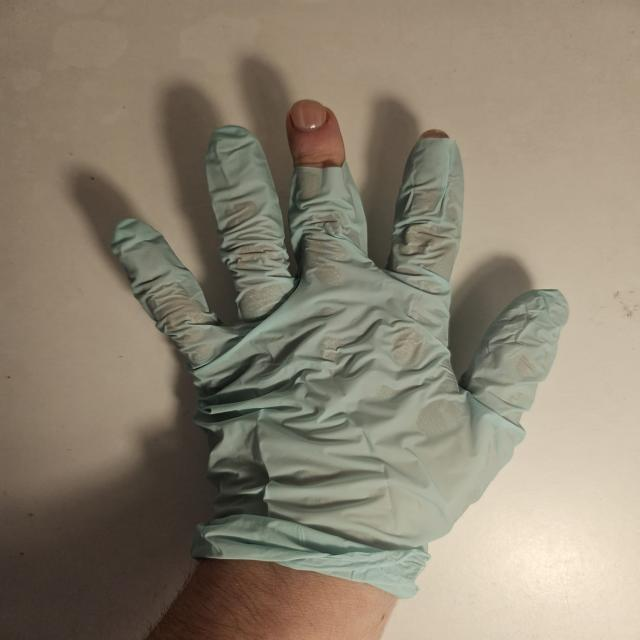gloves_damaged: (105, 92, 572, 600)
